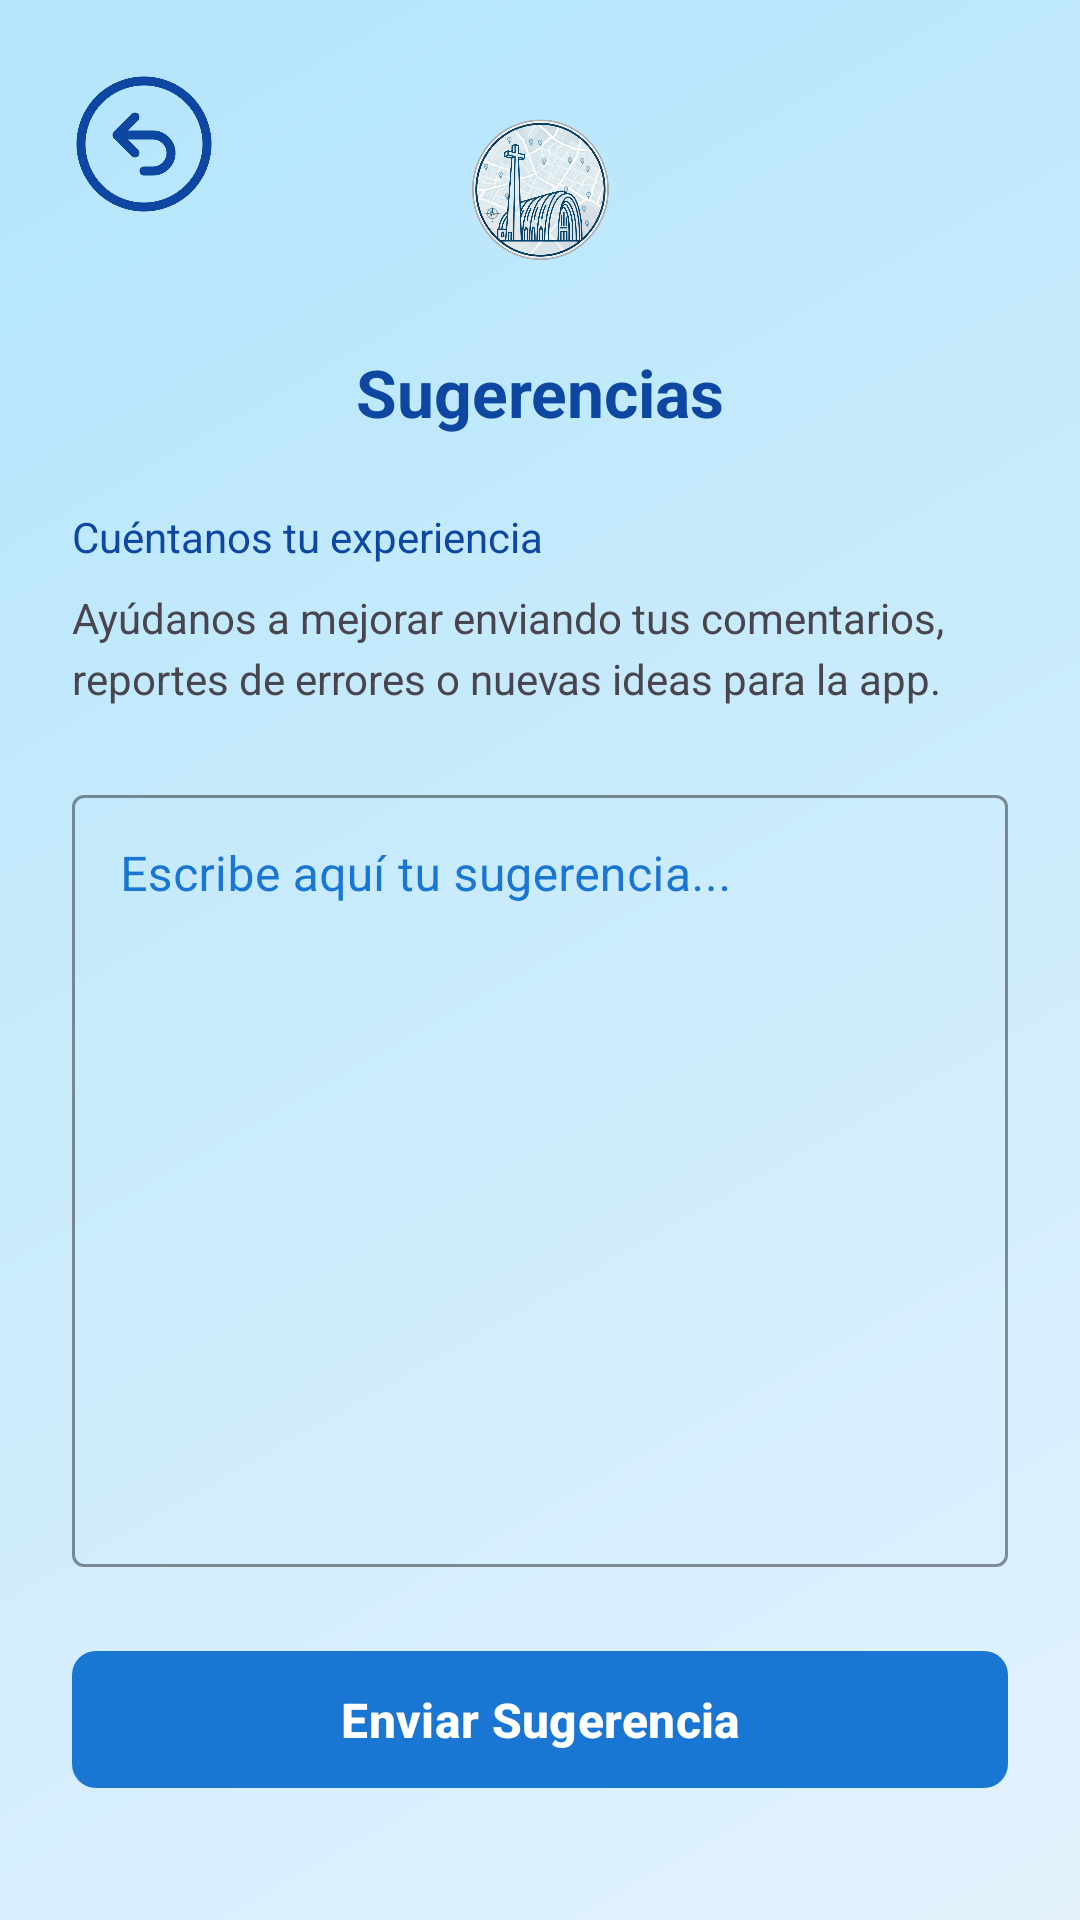

Where to tap for icons on this 1080×1920 app screen, as [x,y]:
Volver: [144,144]
